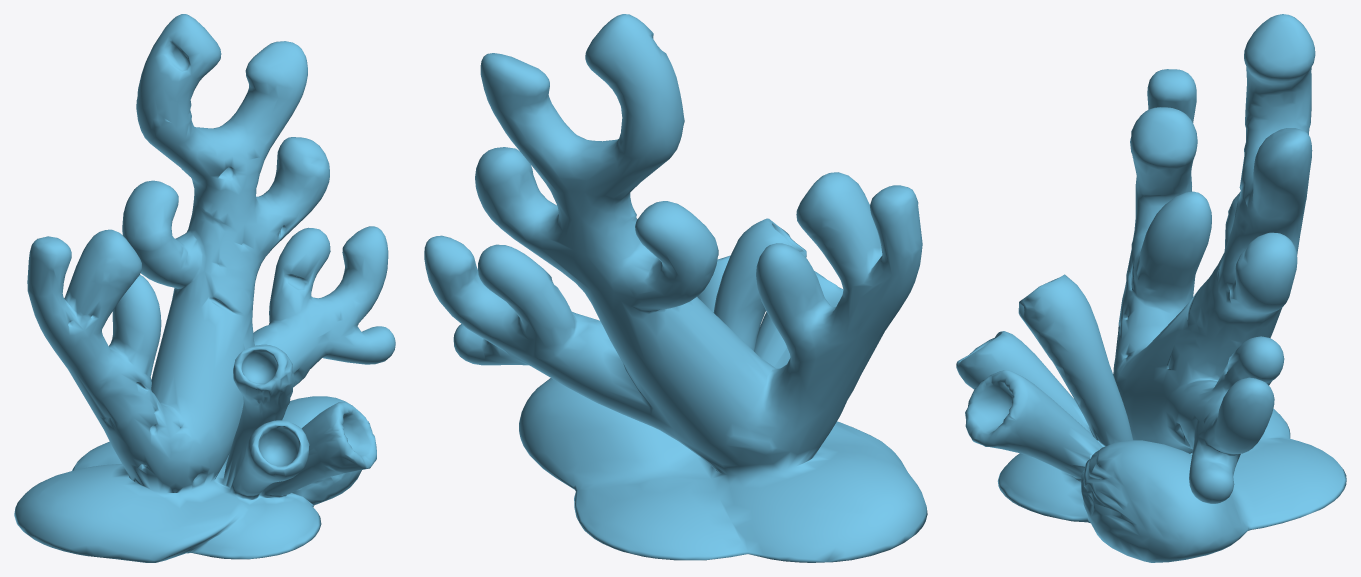
3 renders of one model, left to right at view 1: azimuth 30°, elevation 25°; view 2: azimuth 150°, elevation 25°; view 3: azimuth 270°, elevation 25°, orthographic. The views are drawn at different scales.
Visible parts, largest first — view 1: node_0; view 2: node_0; view 3: node_0.
Part boxes in pixels (box(x1,y1,x2,y2)): node_0: box(14, 14, 395, 562); node_0: box(424, 14, 927, 562); node_0: box(956, 14, 1346, 562).
Bounding box in the file's own units: 0.8387 × 0.905 × 0.6566.
